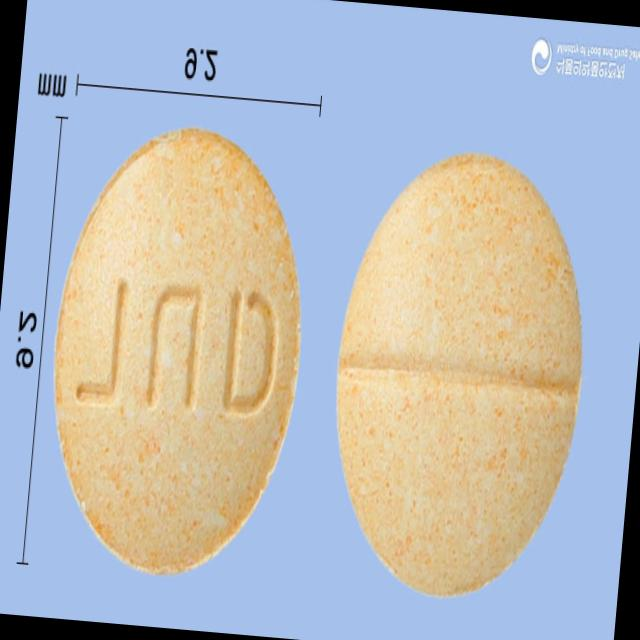Doxymedi: (36, 114, 320, 586)
